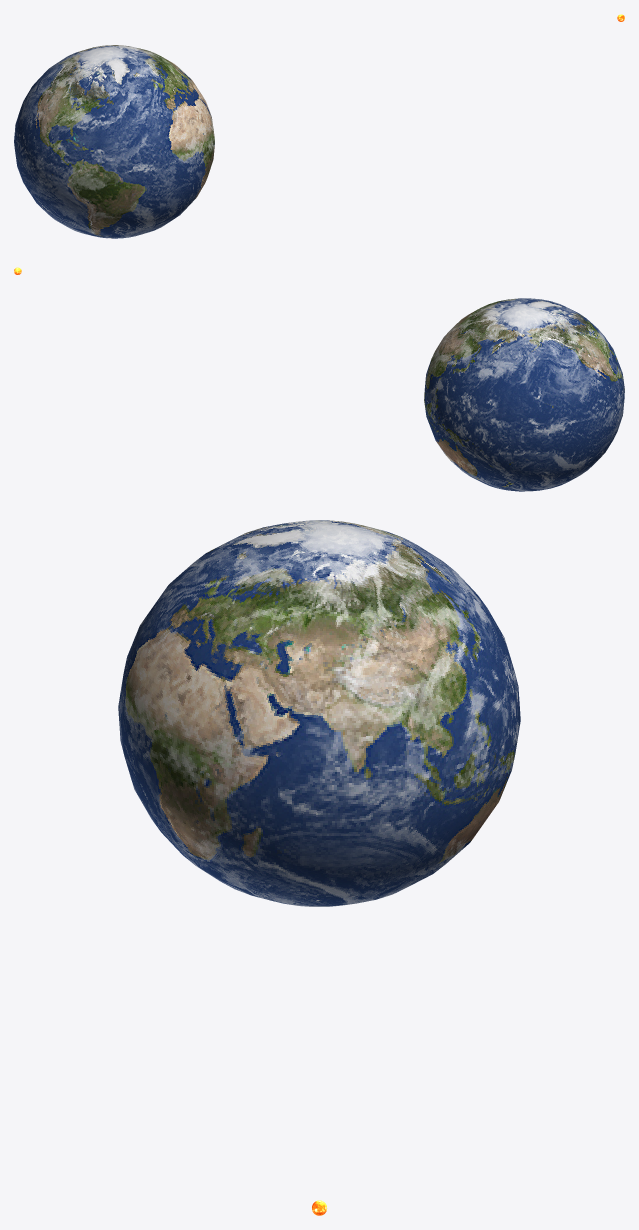
3 renders of one model, top to bottom at view 1: azimuth 30°, elevation 25°; view 2: azimuth 150°, elevation 25°; view 3: azimuth 270°, elevation 25°, orthographic. The views are drawn at different scales.
Parts seen in each view (by area): view 1: earth; view 2: earth; view 3: earth.
Boxes of the visible parts, left/top/right/bottom form: earth: left=14, top=45, right=214, bottom=238; earth: left=424, top=298, right=624, bottom=491; earth: left=118, top=520, right=520, bottom=906.
Bounding box in the file's own units: 4372 × 1218 × 1276.
Materials: 2 (2 with a texture image).
